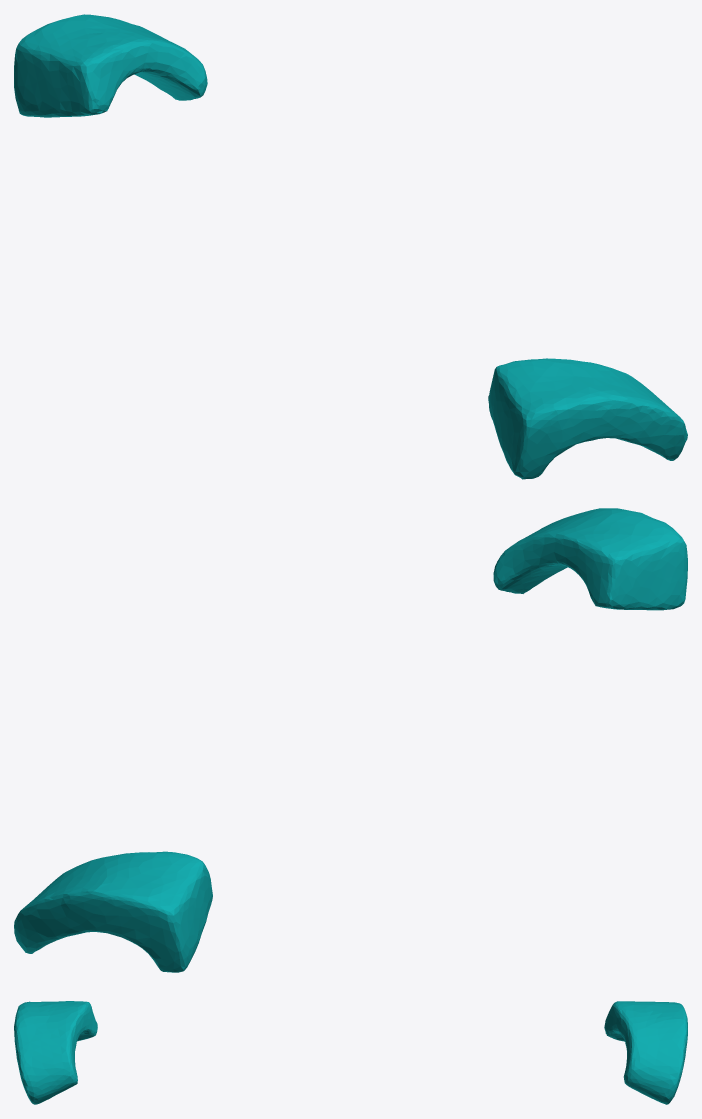
3 views of the same model, one above another, from view 1: azimuth 30°, elevation 25°; view 2: azimuth 150°, elevation 25°; view 3: azimuth 270°, elevation 25° (orthographic). The views are drawn at different scales.
Parts seen in each view (by area): view 1: 1018.obj; view 2: 1018.obj; view 3: 1018.obj.
Boxes of the visible parts, box(x1,y1,x2,y2) form: 1018.obj: box(14, 14, 687, 479); 1018.obj: box(14, 508, 687, 972); 1018.obj: box(14, 1001, 687, 1104).
Bounding box in the file's own units: 1927 × 1097 × 10346.
